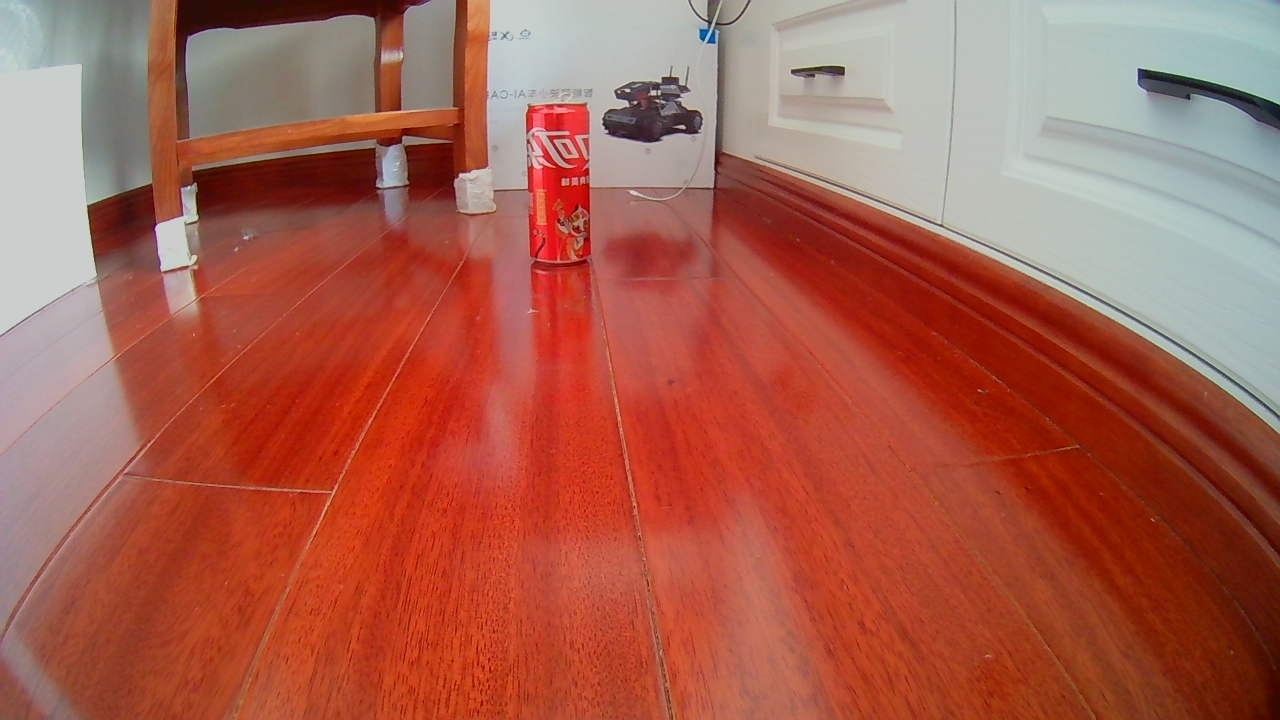cola: (524, 103, 593, 263)
